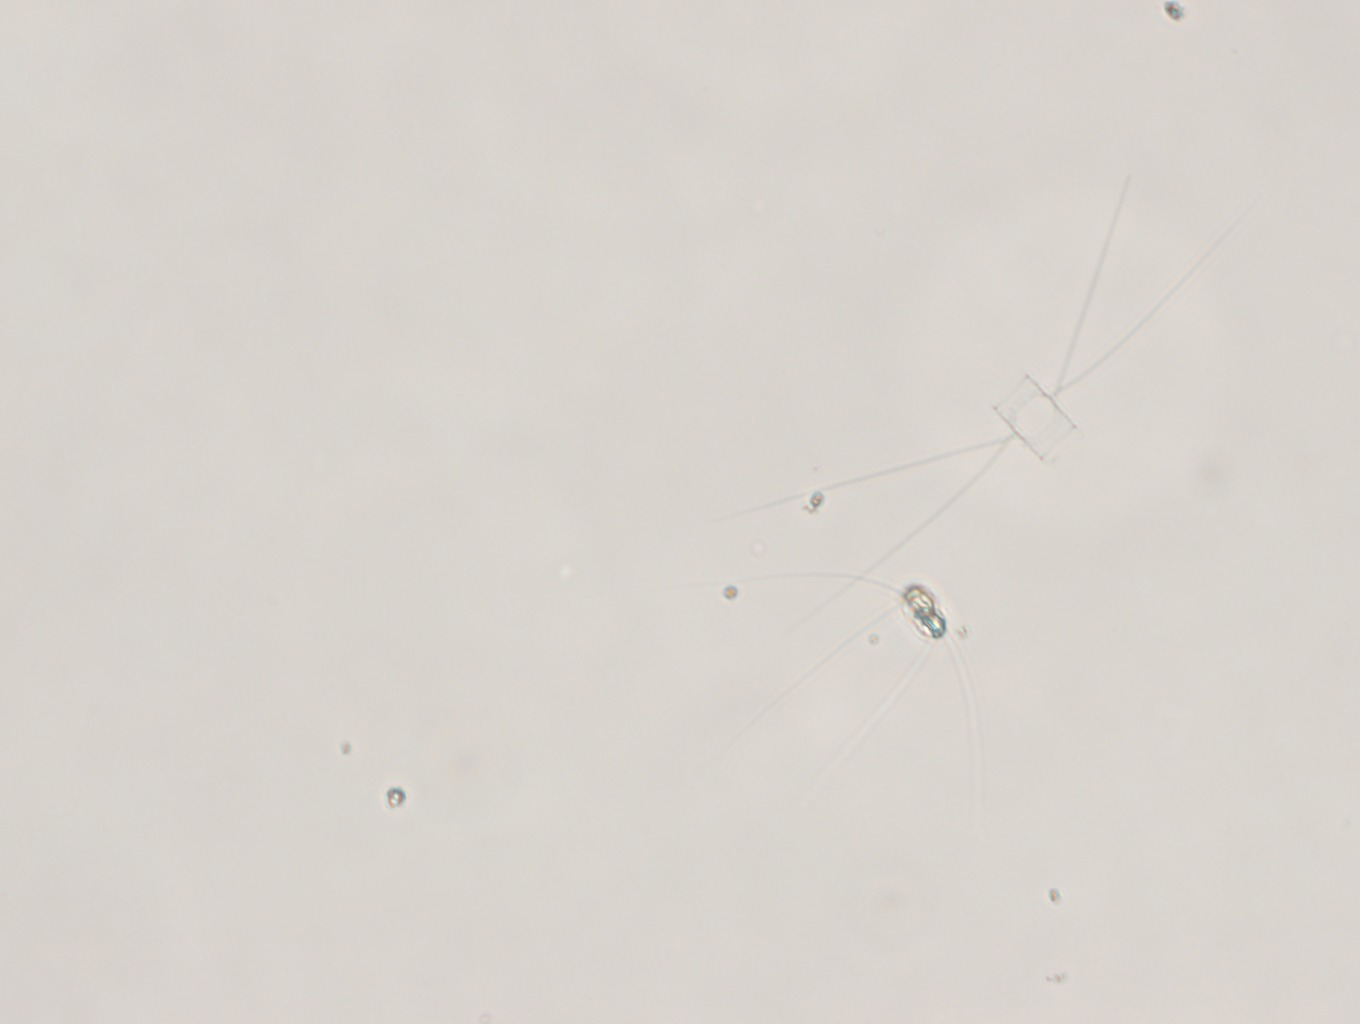chaetoceros: (722, 148, 1256, 597)
